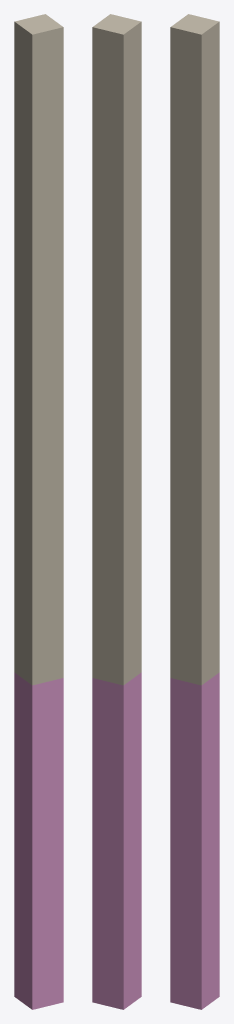
Rendered from Mesh_Wall2Colors_H5.fbx.
The picture shows the model from 3 angles, left to right: view 1: azimuth 30°, elevation 25°; view 2: azimuth 150°, elevation 25°; view 3: azimuth 330°, elevation 25°; orthographic projection.
Parts seen in each view (by area): view 1: Mesh_Wall2Colors_H5; view 2: Mesh_Wall2Colors_H5; view 3: Mesh_Wall2Colors_H5.
Boxes of the visible parts, box(x1,y1,x2,y2) form: Mesh_Wall2Colors_H5: box(14, 14, 63, 1009); Mesh_Wall2Colors_H5: box(92, 14, 141, 1009); Mesh_Wall2Colors_H5: box(170, 14, 219, 1009).
Size of the model in its own units: 0.1 by 3 by 0.1.
